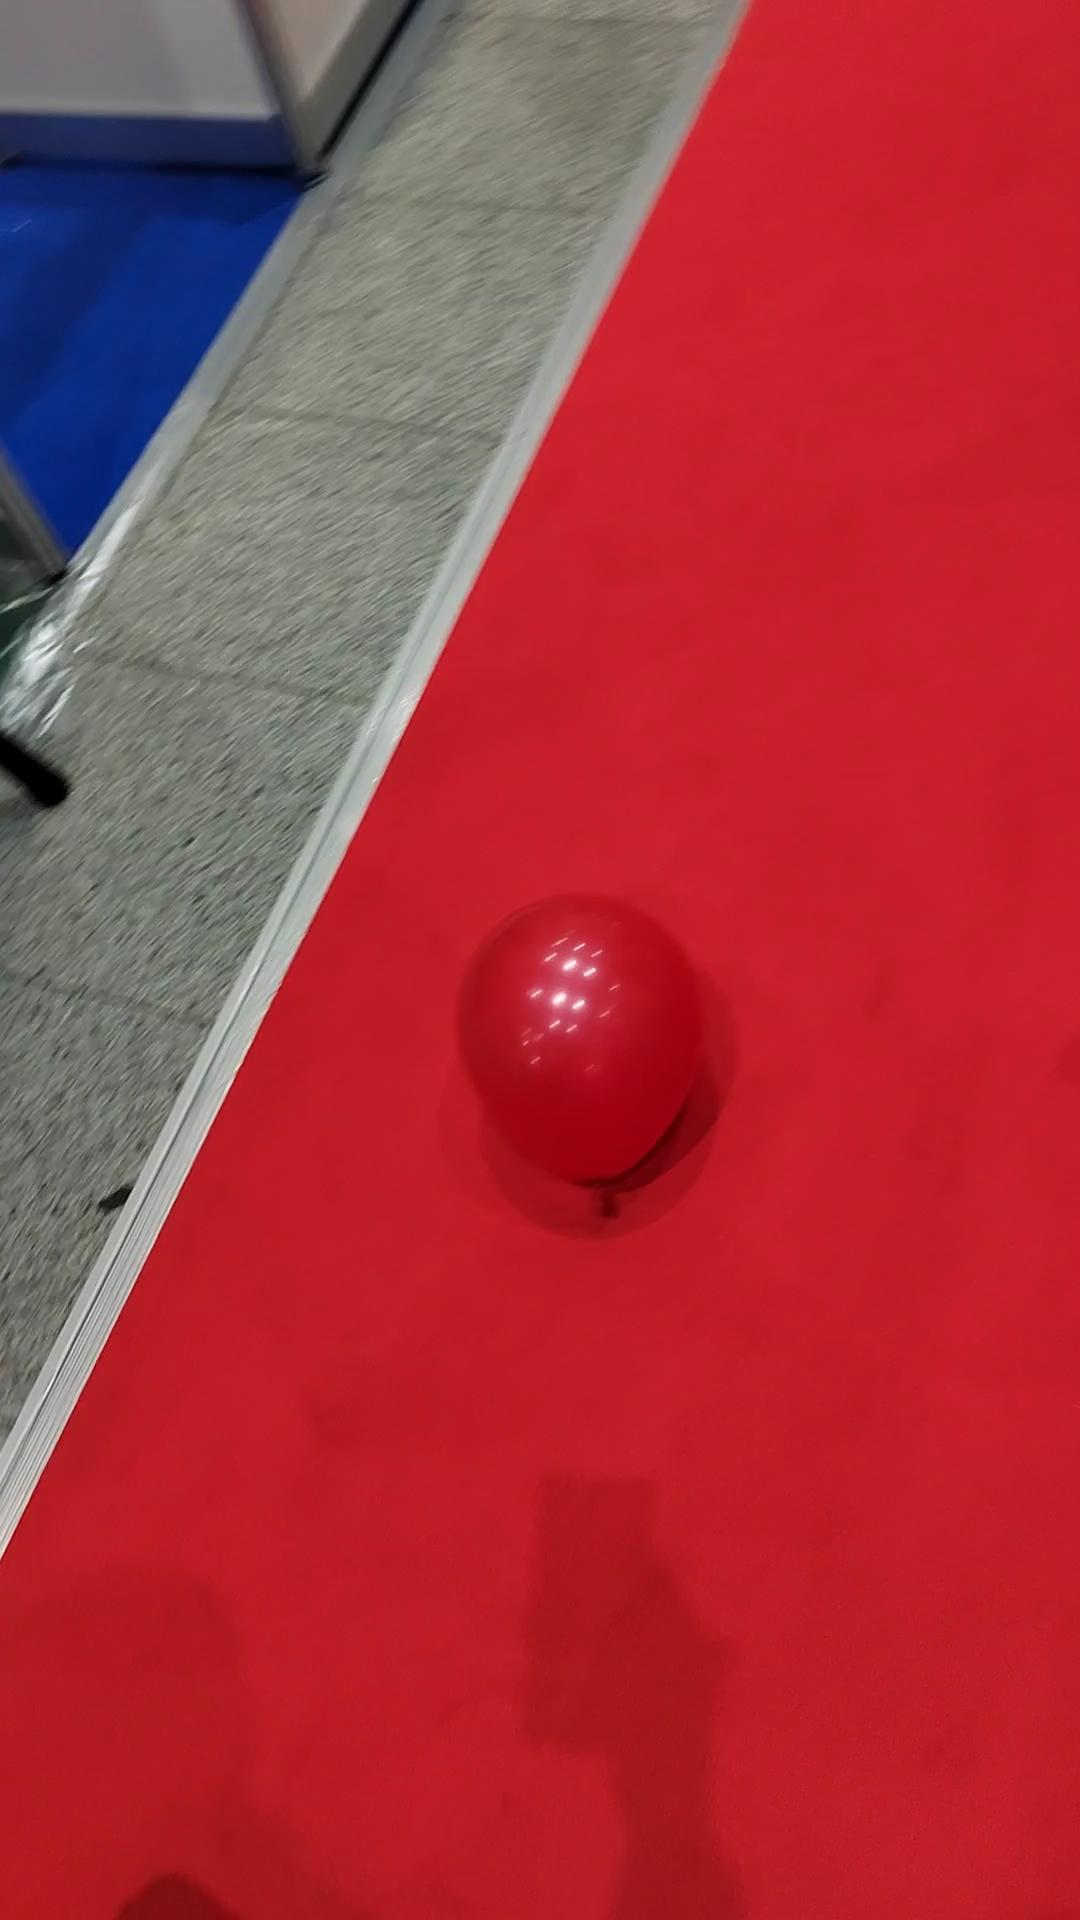red: (455, 894, 704, 1188)
